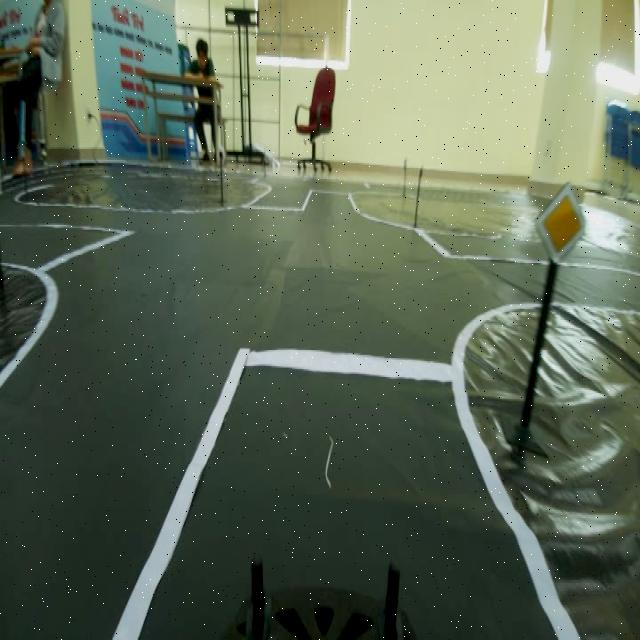priority: (531, 176, 589, 272)
